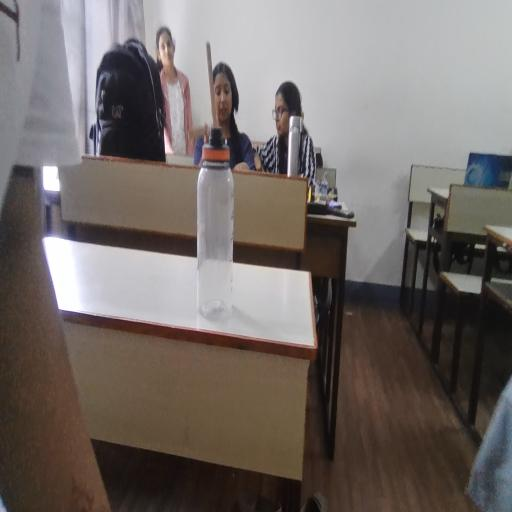Bottle: (194, 133, 249, 310)
